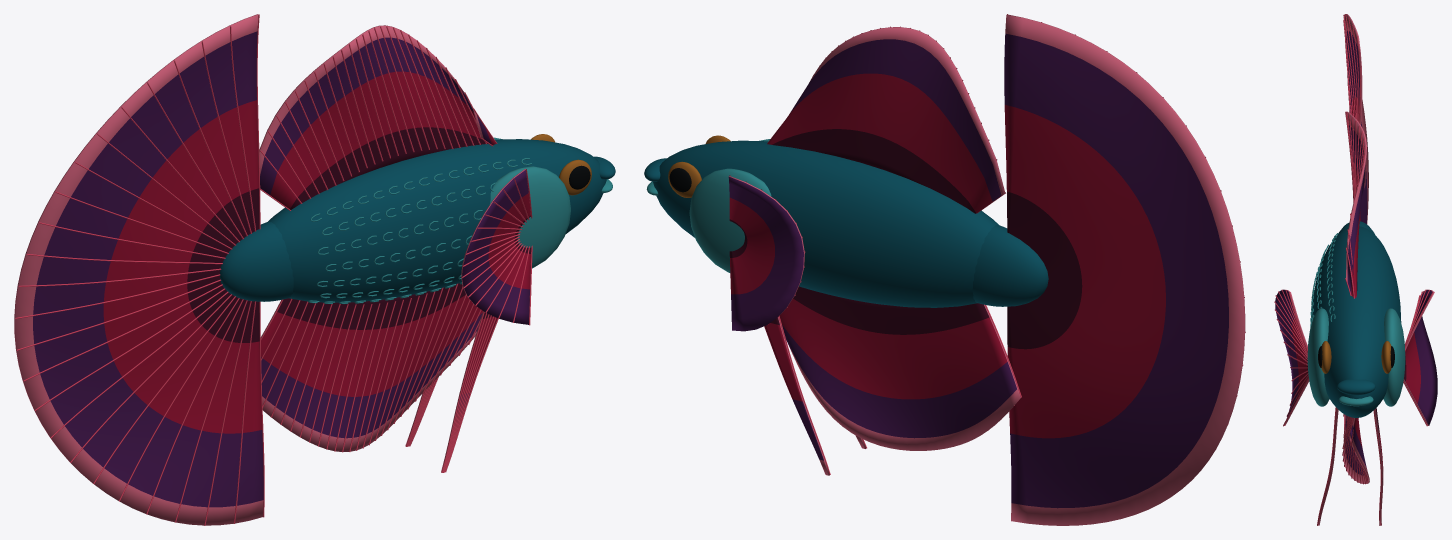
The model's file is betta-study.obj.
The picture shows the model from 3 angles, left to right: view 1: azimuth 30°, elevation 25°; view 2: azimuth 150°, elevation 25°; view 3: azimuth 270°, elevation 25°; orthographic projection. The views are drawn at different scales.
Visible parts, largest first — view 1: Caudal_fan, Body_and_shaped_head, Anal_skirt, Dorsal_sail, Pectoral_left, Tail_peduncle, Gill_cover_-1, Pelvic_ribbon_left; view 2: Caudal_fan, Body_and_shaped_head, Anal_skirt, Dorsal_sail, Pectoral_right, Tail_peduncle, Gill_cover_1, Pelvic_ribbon_right; view 3: Body_and_shaped_head, Pectoral_right, Dorsal_sail, Pectoral_left, Caudal_fan, Gill_cover_-1, Gill_cover_1, Anal_skirt, Upturned_upper_lip, Pelvic_ribbon_right, Iris_-1, Iris_1 (+4 smaller).
Boxes of the visible parts, bbox=[...] form: Caudal_fan: bbox=[14, 14, 263, 525]; Body_and_shaped_head: bbox=[268, 139, 606, 302]; Anal_skirt: bbox=[260, 283, 482, 451]; Dorsal_sail: bbox=[259, 25, 495, 209]; Pectoral_left: bbox=[461, 169, 531, 324]; Tail_peduncle: bbox=[220, 222, 293, 301]; Gill_cover_-1: bbox=[489, 166, 570, 268]; Pelvic_ribbon_left: bbox=[441, 311, 497, 472]; Caudal_fan: bbox=[1004, 14, 1245, 525]; Body_and_shaped_head: bbox=[653, 140, 998, 307]; Anal_skirt: bbox=[779, 286, 1020, 450]; Dorsal_sail: bbox=[767, 27, 1005, 213]; Pectoral_right: bbox=[728, 176, 804, 331]; Tail_peduncle: bbox=[972, 225, 1048, 306]; Gill_cover_1: bbox=[689, 168, 771, 272]; Pelvic_ribbon_right: bbox=[764, 317, 829, 475]; Body_and_shaped_head: bbox=[1312, 226, 1401, 417]; Pectoral_right: bbox=[1403, 289, 1437, 425]; Dorsal_sail: bbox=[1346, 111, 1366, 297]; Pectoral_left: bbox=[1275, 289, 1309, 425]; Caudal_fan: bbox=[1344, 14, 1368, 434]; Gill_cover_-1: bbox=[1307, 308, 1329, 406]; Gill_cover_1: bbox=[1383, 308, 1405, 406]; Anal_skirt: bbox=[1343, 418, 1369, 483]; Upturned_upper_lip: bbox=[1337, 379, 1375, 395]; Pelvic_ribbon_right: bbox=[1374, 408, 1383, 525]; Iris_-1: bbox=[1321, 341, 1331, 373]; Iris_1: bbox=[1381, 341, 1391, 373].
Size of the model in its own units: 3.06 by 2.47 by 0.8416.
